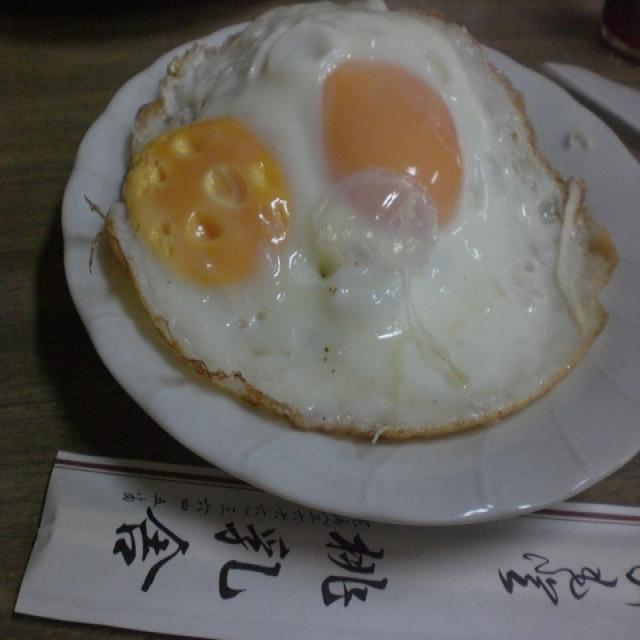Egg: (86, 0, 624, 435)
